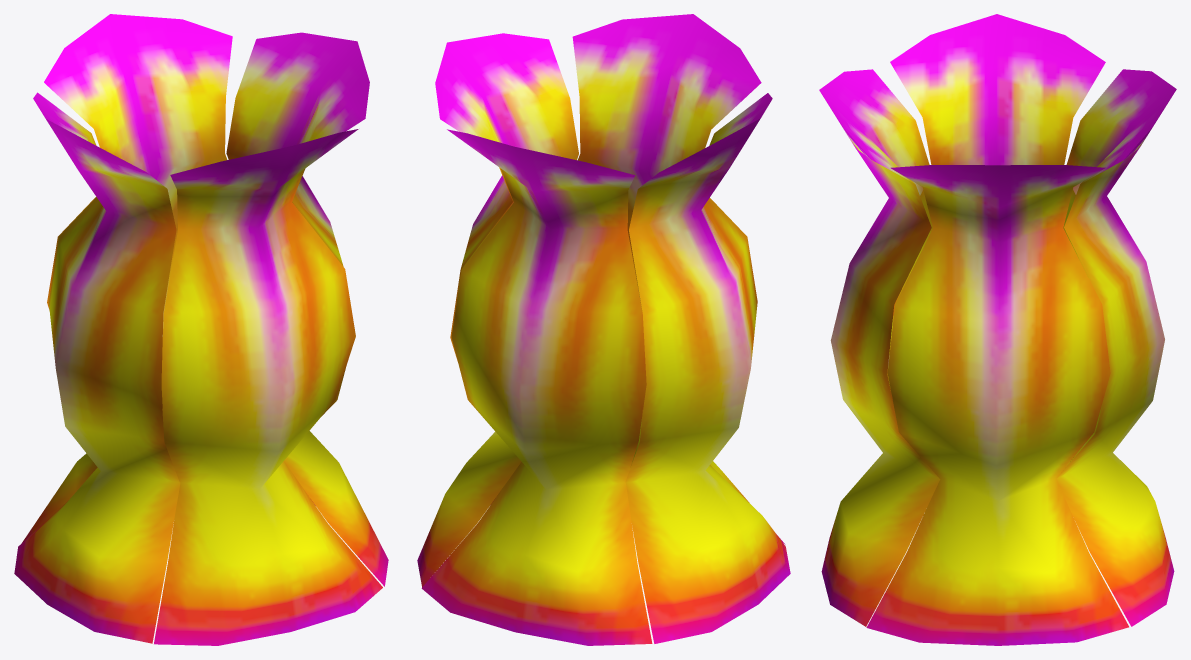
The model's file is INST_TROLLHOLE_PLATPLANTTOP.fbx.
3 renders of one model, left to right at view 1: azimuth 30°, elevation 25°; view 2: azimuth 150°, elevation 25°; view 3: azimuth 270°, elevation 25°, orthographic.
Parts seen in each view (by area): view 1: INST_TROLLHOLE_PLATPLANTTOP; view 2: INST_TROLLHOLE_PLATPLANTTOP; view 3: INST_TROLLHOLE_PLATPLANTTOP.
Boxes of the visible parts, left/top/right/bottom form: INST_TROLLHOLE_PLATPLANTTOP: left=14, top=14, right=388, bottom=645; INST_TROLLHOLE_PLATPLANTTOP: left=417, top=14, right=790, bottom=645; INST_TROLLHOLE_PLATPLANTTOP: left=819, top=14, right=1176, bottom=645.
Size of the model in its own units: 5237 by 7782 by 5237.
1 material, 1 textured.
